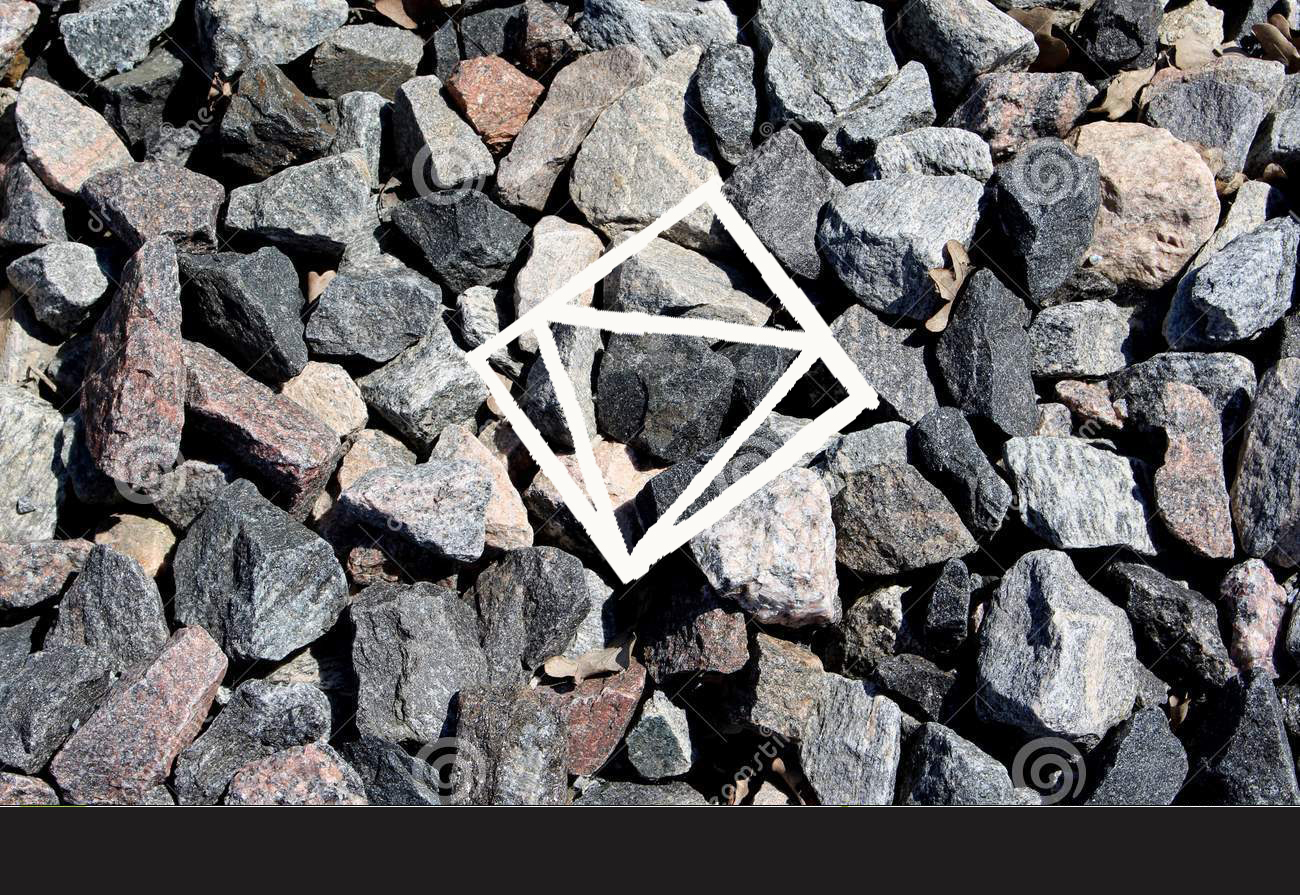marker: (451, 169, 886, 591)
